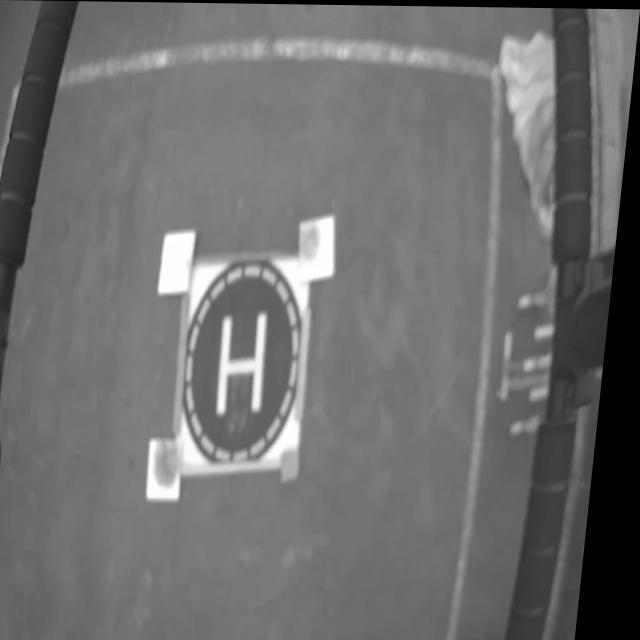Helipad: (225, 309, 275, 412)
